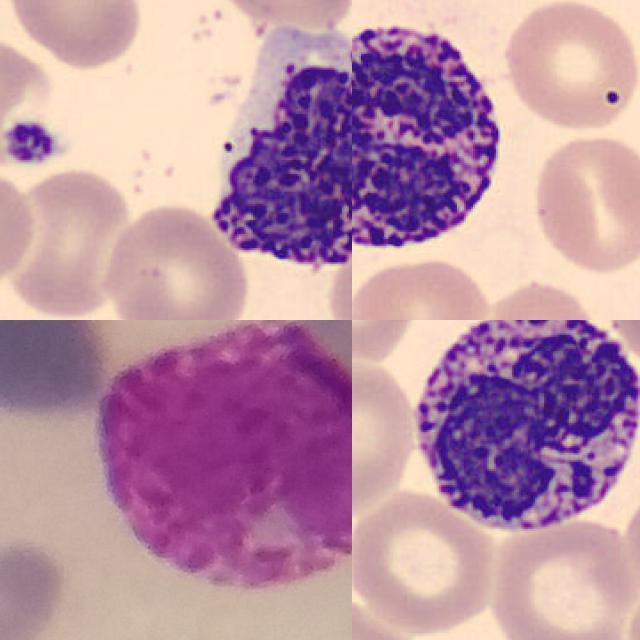Basophil: (94, 320, 352, 594), (398, 320, 640, 543), (352, 9, 514, 274), (196, 18, 352, 292)
Platelets: (0, 116, 61, 167)
RBC: (352, 488, 501, 634), (2, 163, 137, 320), (483, 513, 640, 640), (499, 0, 640, 133), (98, 199, 252, 320), (529, 131, 640, 275), (352, 354, 419, 514), (4, 0, 146, 70), (473, 275, 610, 320), (0, 172, 41, 292), (208, 0, 352, 29)
